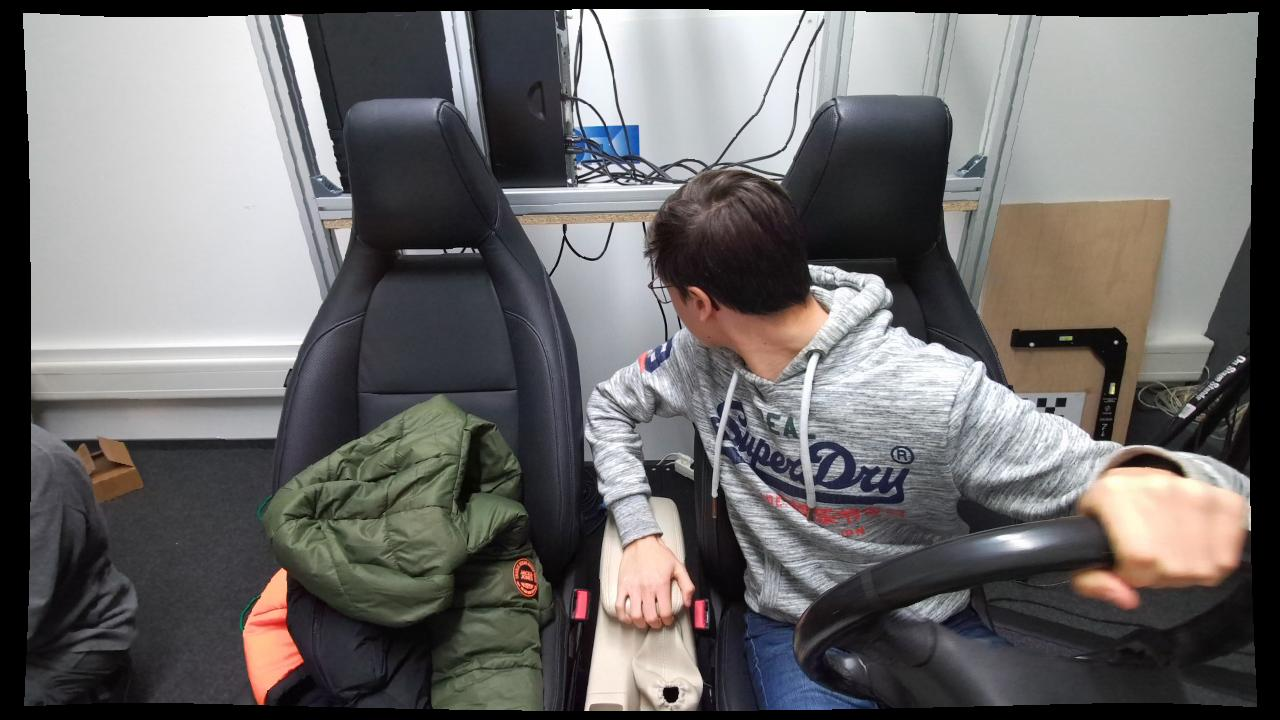Distracted: (608, 165, 984, 690)
